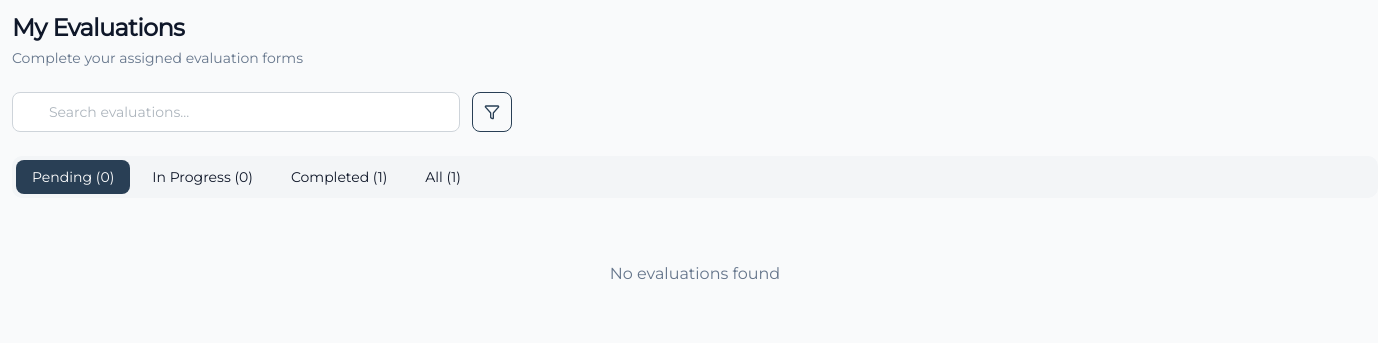
OfficerEvaluations queue and closed forms (#237) › renders Submitted button for completed assignments
Click the tab "All (1)".
click(443, 177)  # box [409,160,477,194]
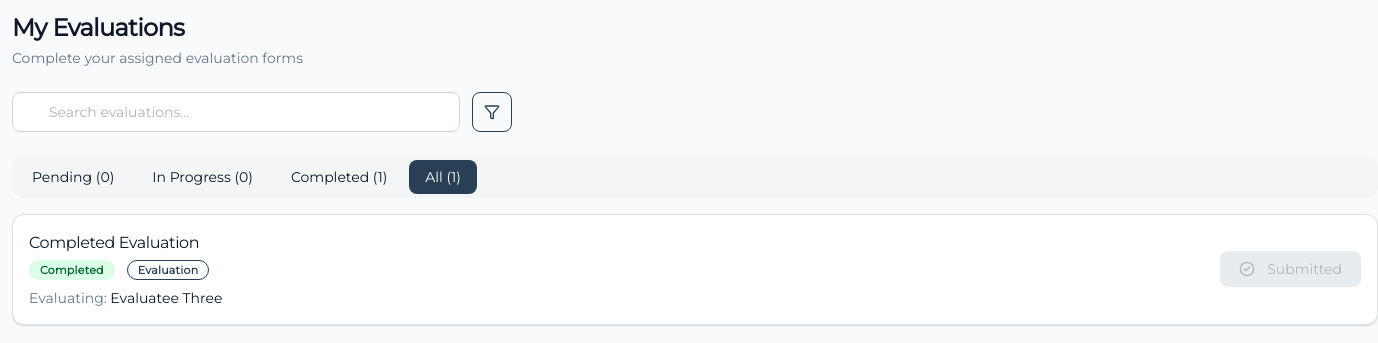
Now the heading "Completed Evaluation" is shown, box [29,231,199,256]
Now the button "Submitted" is disabled, box [1220,251,1361,287]
